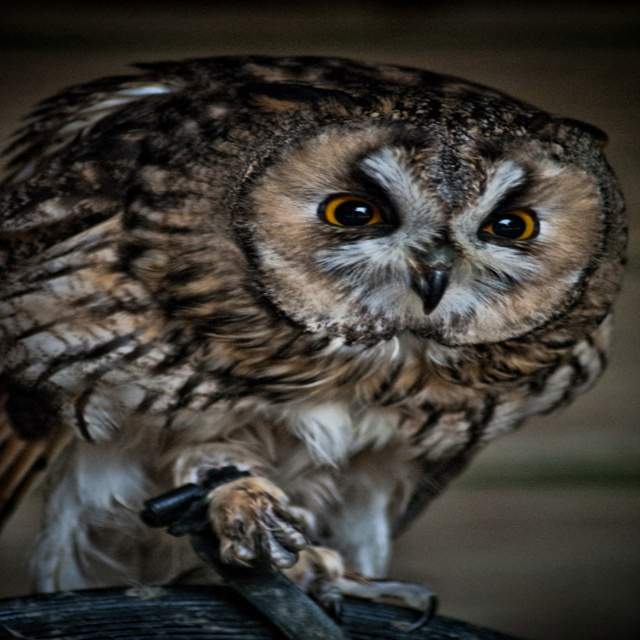Owl: (0, 49, 635, 632)
